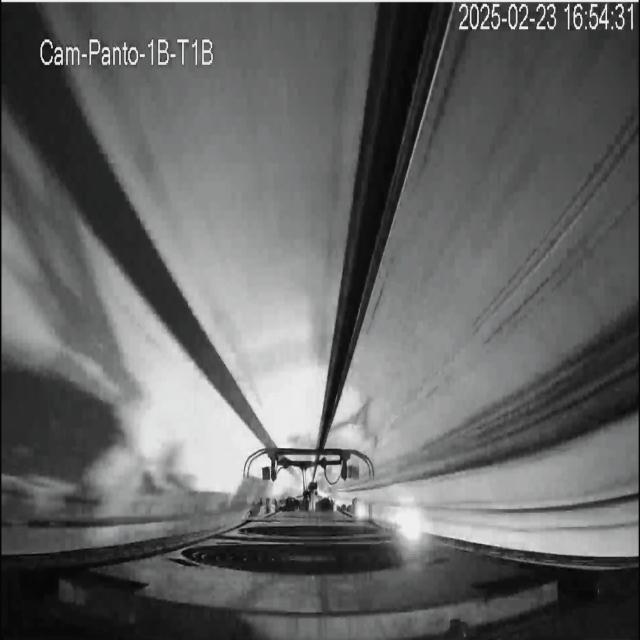Camera Stamp: (37, 30, 221, 83)
Date Stamp: (456, 0, 640, 41)
No - Spark: (239, 415, 379, 524)
